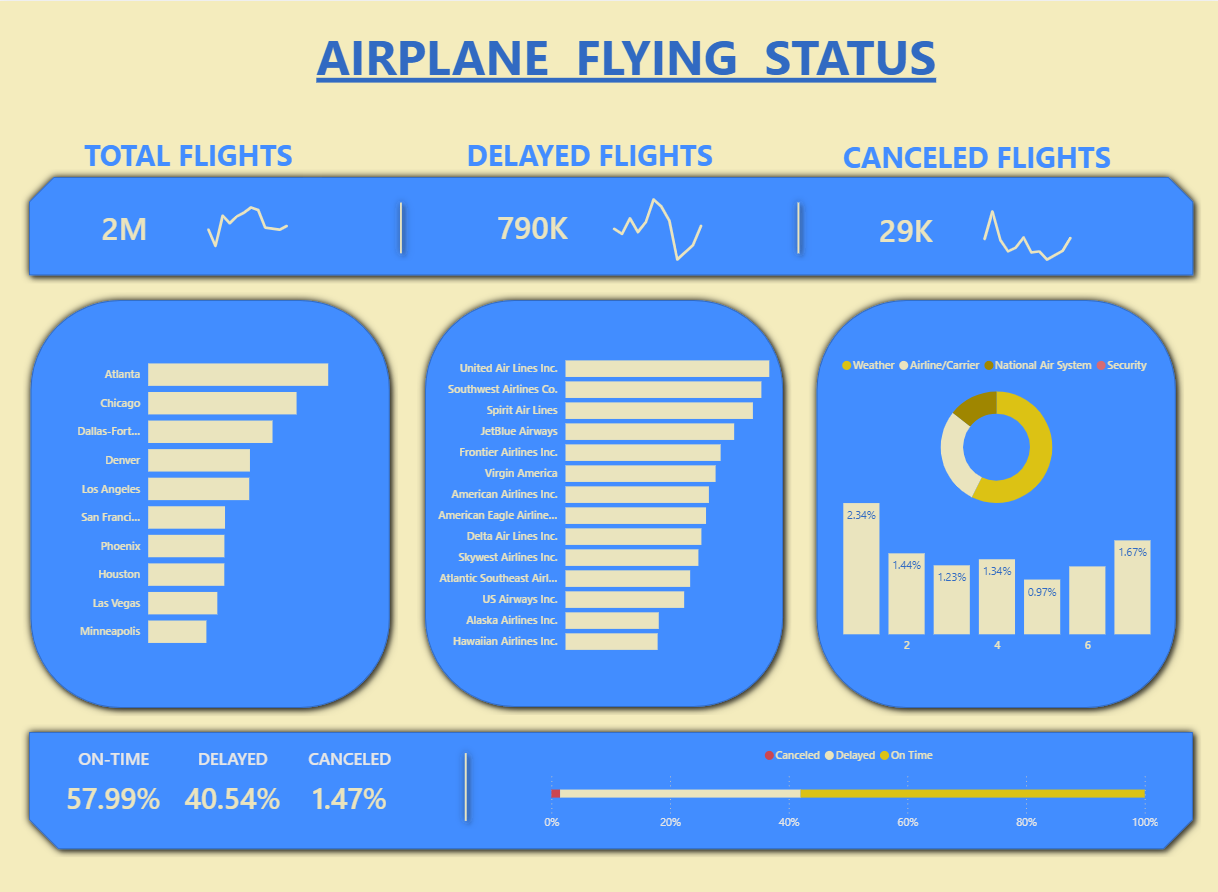

What the dashboard file says about the page in this screenshot:
{"tool":"powerbi","page":{"name":"Page 1","canvas":[1367,1000],"ordinal":0},"visuals":[{"type":"shape","box":[904.6,322.5,417.1,471.2],"z":0},{"type":"shape","box":[470.7,323.2,415.7,470],"z":1000},{"type":"shape","box":[32,322.5,417.1,471.2],"z":2000},{"type":"shape","box":[30.6,803.7,1311,148],"z":3000},{"type":"shape","box":[30.7,187.5,1311.4,127.1],"z":4000},{"type":"cardVisual","fields":{"Data":["flights.Total Flights"]},"box":[75,203.3,140,93.3],"z":5000},{"type":"lineChart","fields":{"Category":["flights.MONTH"],"Y":["flights.Total Flights"]},"box":[215,203.2,148.6,94.3],"z":6000},{"type":"cardVisual","fields":{"Data":["flights.Delayed Flights"]},"box":[520.7,203.2,157.1,92.9],"z":7000},{"type":"lineChart","fields":{"Category":["flights.MONTH"],"Y":["flights.Delayed Flights"]},"box":[665,203.2,161.4,92.9],"z":8000},{"type":"cardVisual","fields":{"Data":["flights.Canceled Flights"]},"box":[953.6,203.2,120,97.1],"z":9000},{"type":"lineChart","fields":{"Category":["flights.MONTH"],"Y":["flights.Canceled Flights"]},"box":[1076.4,204.6,160,94.3],"z":10000},{"type":"cardVisual","title":"ON-TIME","fields":{"Data":["flights.% On Time"]},"box":[40.7,828.9,185.7,90],"z":11000},{"type":"cardVisual","title":"CANCELED","fields":{"Data":["flights.% Canceled"]},"box":[302.1,828.9,187.1,90],"z":12000},{"type":"cardVisual","title":"DELAYED","fields":{"Data":["flights.% Delayed"]},"box":[172.1,828.9,187.1,90],"z":13000},{"type":"clusteredBarChart","fields":{"Category":["airports.CITY"],"Y":["flights.Total Flights"]},"box":[74.7,376.6,331.7,354.4],"z":14000},{"type":"clusteredBarChart","fields":{"Category":["airlines.AIRLINE"],"Y":["flights.% Delayed"]},"box":[476.4,376,417.1,358.6],"z":15000},{"type":"donutChart","fields":{"Category":["cancellation_codes.CANCELLATION_DESCRIPTION"],"Y":["flights.Canceled Flights"]},"box":[925,384.6,377.1,192.9],"z":16000},{"type":"clusteredColumnChart","fields":{"Category":["flights.DAY_OF_WEEK"],"Y":["flights.% Canceled"]},"box":[937.9,533.2,351.4,200],"z":17000},{"type":"hundredPercentStackedBarChart","fields":{"Y":["flights.Total Flights"],"Series":["flights.status"]},"box":[605.7,817.9,693.2,112.5],"z":18000},{"type":"textbox","box":[95,143.2,247.1,52.9],"z":19000},{"type":"textbox","box":[519.3,143.2,292.9,52.9],"z":20000},{"type":"textbox","box":[937.9,144.6,331.4,52.9],"z":21000},{"type":"shape","box":[415,214.6,74.3,74.3],"z":22000},{"type":"shape","box":[856.4,214.6,74.3,74.3],"z":23000},{"type":"shape","box":[486.7,826.7,75,93.3],"z":24000},{"type":"textbox","box":[328.3,20,748.3,93.3],"z":25000}]}

Visuals, with their boxes in screenshot pixels (x1, y1, x2, y2), scaled from the page's 1367x1000 canvas onto the 1218x892 screenshot:
shape: 806:288:1178:708
shape: 419:288:790:708
shape: 29:288:400:708
shape: 27:717:1195:849
shape: 27:167:1196:281
cardVisual - flights.Total Flights: 67:181:192:265
lineChart - flights.MONTH x flights.Total Flights: 192:181:324:265
cardVisual - flights.Delayed Flights: 464:181:604:264
lineChart - flights.MONTH x flights.Delayed Flights: 593:181:736:264
cardVisual - flights.Canceled Flights: 850:181:957:268
lineChart - flights.MONTH x flights.Canceled Flights: 959:183:1102:267
"ON-TIME" cardVisual: 36:739:202:820
"CANCELED" cardVisual: 269:739:436:820
"DELAYED" cardVisual: 153:739:320:820
clusteredBarChart - airports.CITY x flights.Total Flights: 67:336:362:652
clusteredBarChart - airlines.AIRLINE x flights.% Delayed: 424:335:796:655
donutChart - cancellation_codes.CANCELLATION_DESCRIPTION x flights.Canceled Flights: 824:343:1160:515
clusteredColumnChart - flights.DAY_OF_WEEK x flights.% Canceled: 836:476:1149:654
hundredPercentStackedBarChart - flights.Total Flights x flights.status: 540:730:1157:830
textbox: 85:128:305:175
textbox: 463:128:724:175
textbox: 836:129:1131:176
shape: 370:191:436:258
shape: 763:191:829:258
shape: 434:737:500:821
textbox: 293:18:959:101
